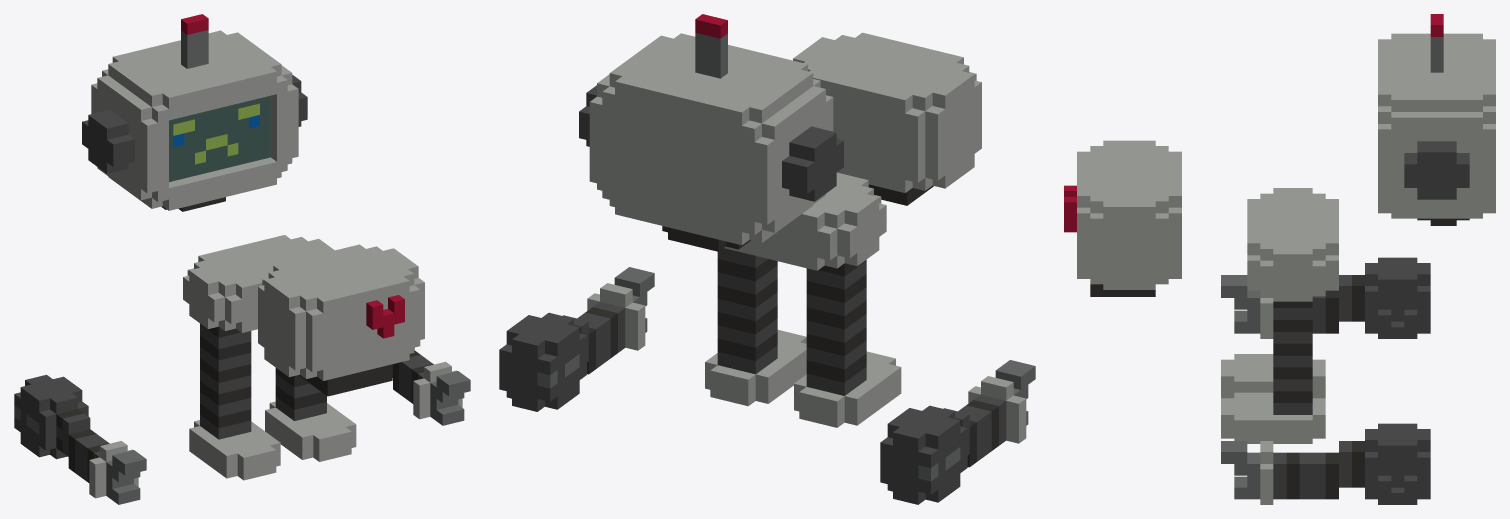
File: player_main_death_3.fbx
The picture shows the model from 3 angles, left to right: view 1: azimuth 30°, elevation 25°; view 2: azimuth 150°, elevation 25°; view 3: azimuth 270°, elevation 25°; orthographic projection. The views are drawn at different scales.
Visible parts, largest first — view 1: model_7; view 2: model_7; view 3: model_7.
Boxes of the visible parts, <box> form: model_7: <box>14,14,470,504</box>; model_7: <box>499,14,1035,504</box>; model_7: <box>1064,14,1495,504</box>.
Size of the model in its own units: 340 by 330 by 330.
